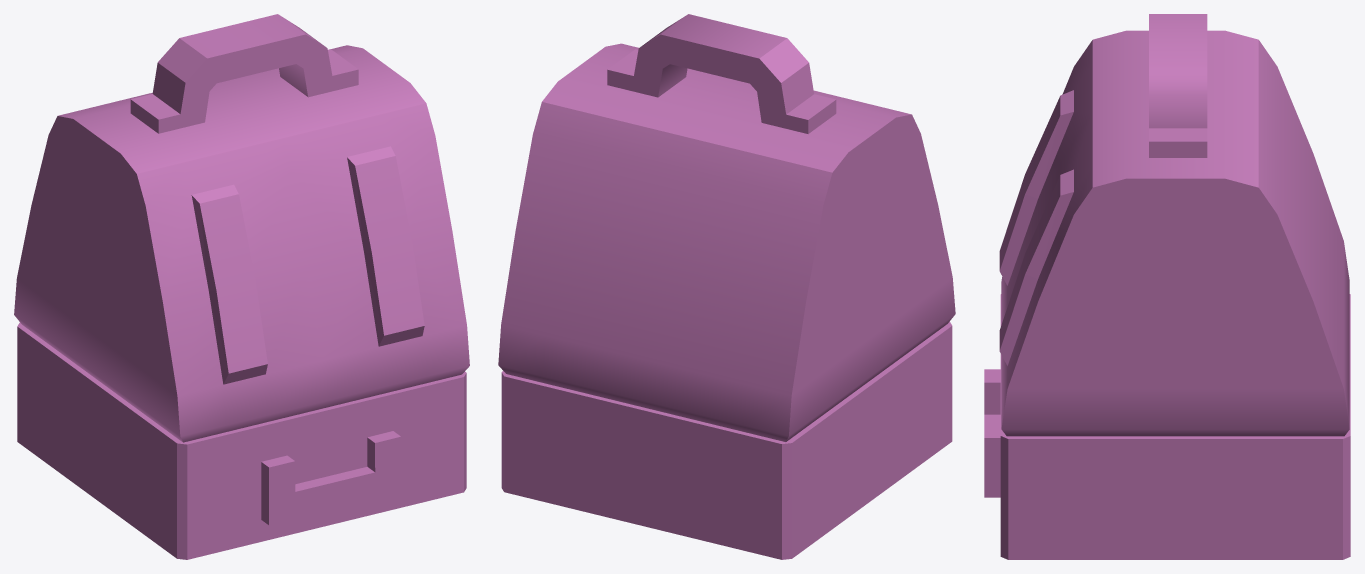
Rendered from bag.glb.
3 renders of one model, left to right at view 1: azimuth 30°, elevation 25°; view 2: azimuth 150°, elevation 25°; view 3: azimuth 270°, elevation 25°, orthographic. The views are drawn at different scales.
Visible parts, largest first — view 1: bag; view 2: bag; view 3: bag.
Part boxes in pixels (x1,y1,x2,y2): bag: (14,14,469,559); bag: (498,14,955,559); bag: (984,14,1350,559).
Bounding box in the file's own units: 0.9 × 1.27 × 0.942.
